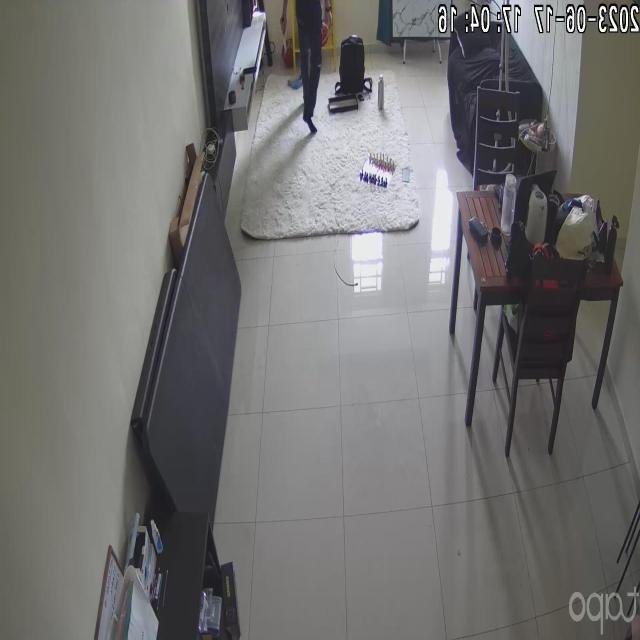Knife: (274, 27, 298, 61)
